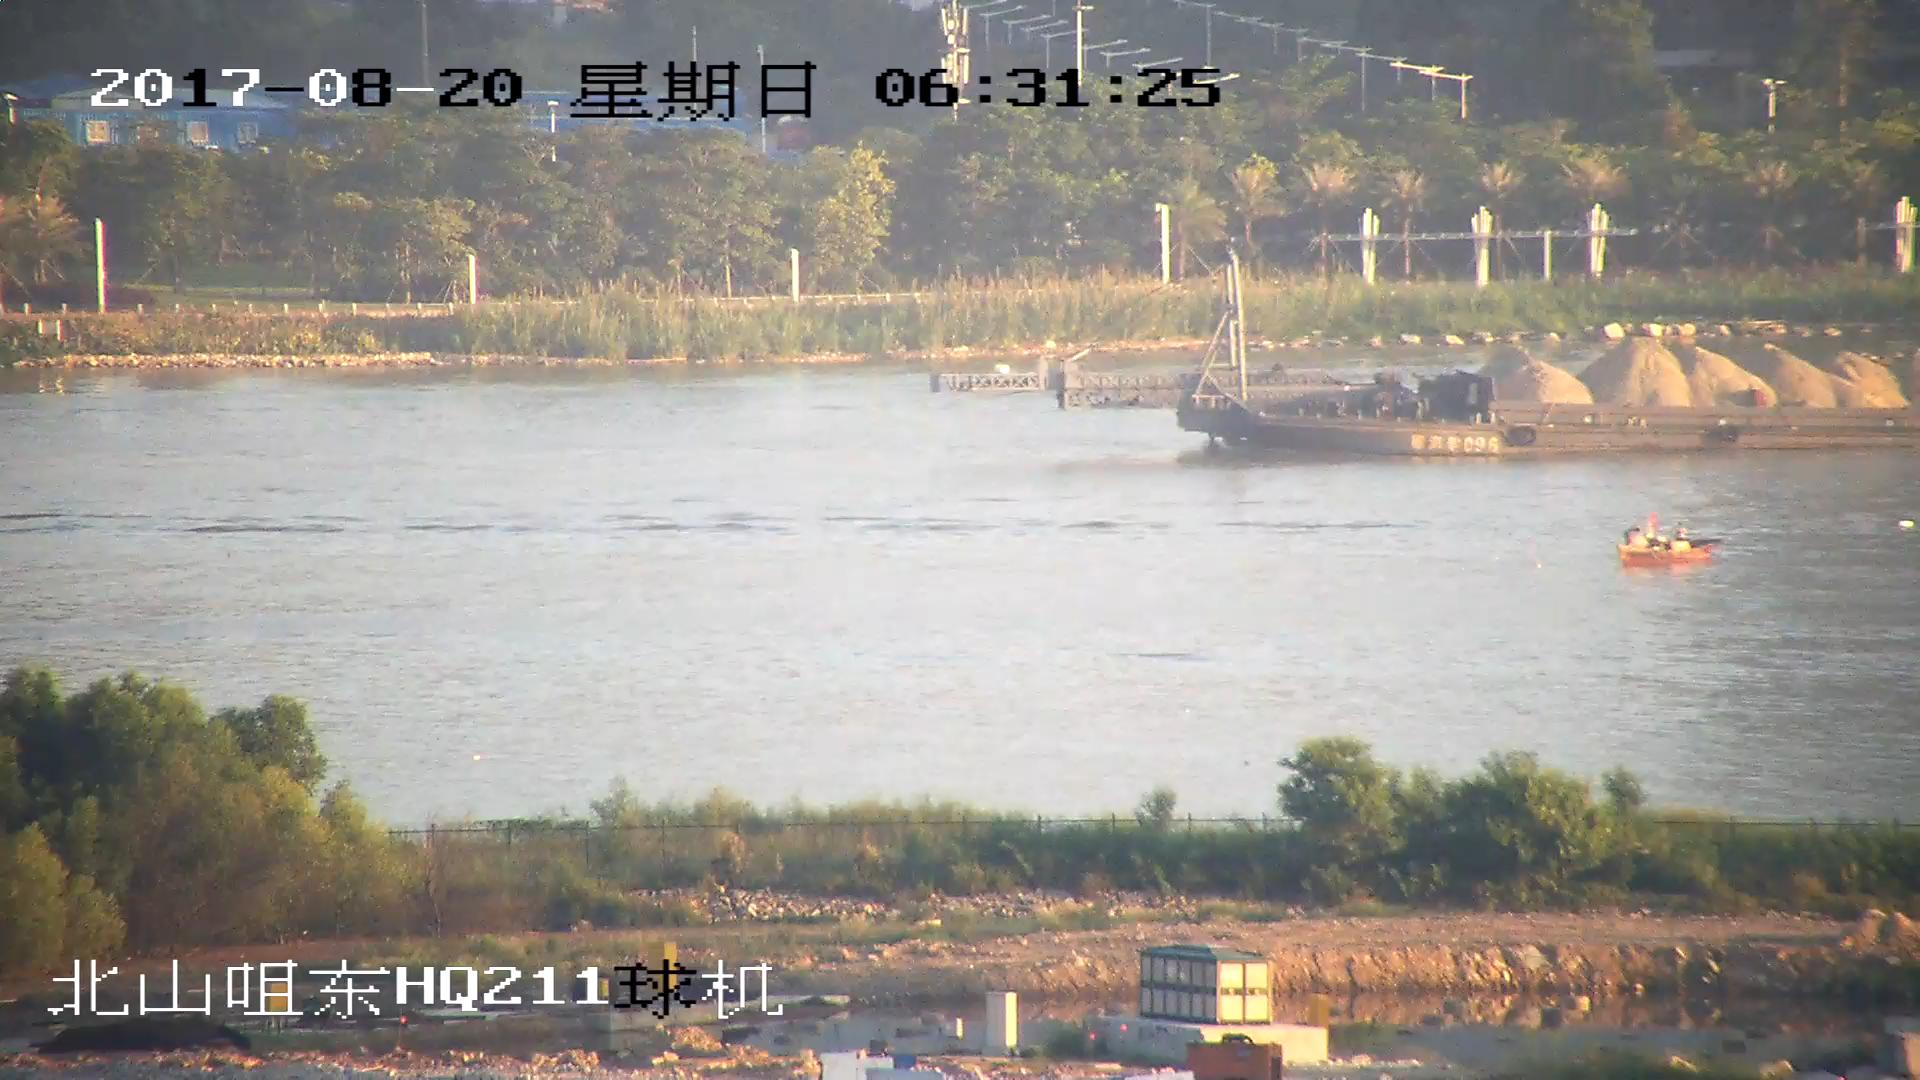fishing boat: (1618, 510, 1726, 570)
ore carrier: (931, 245, 1920, 461)
